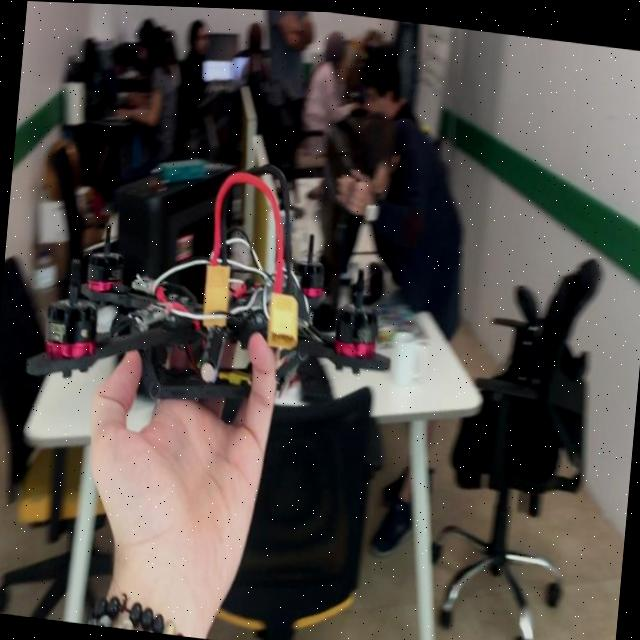drone: (38, 206, 420, 431)
